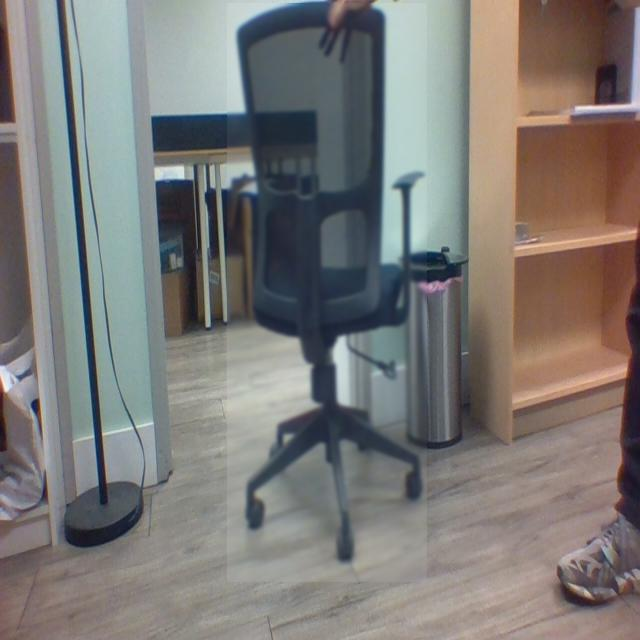black-chair: (227, 3, 428, 583)
